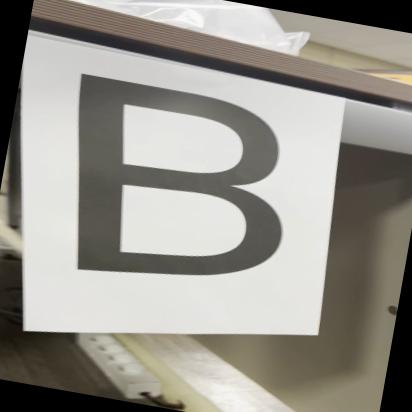seat: (23, 54, 320, 322)
